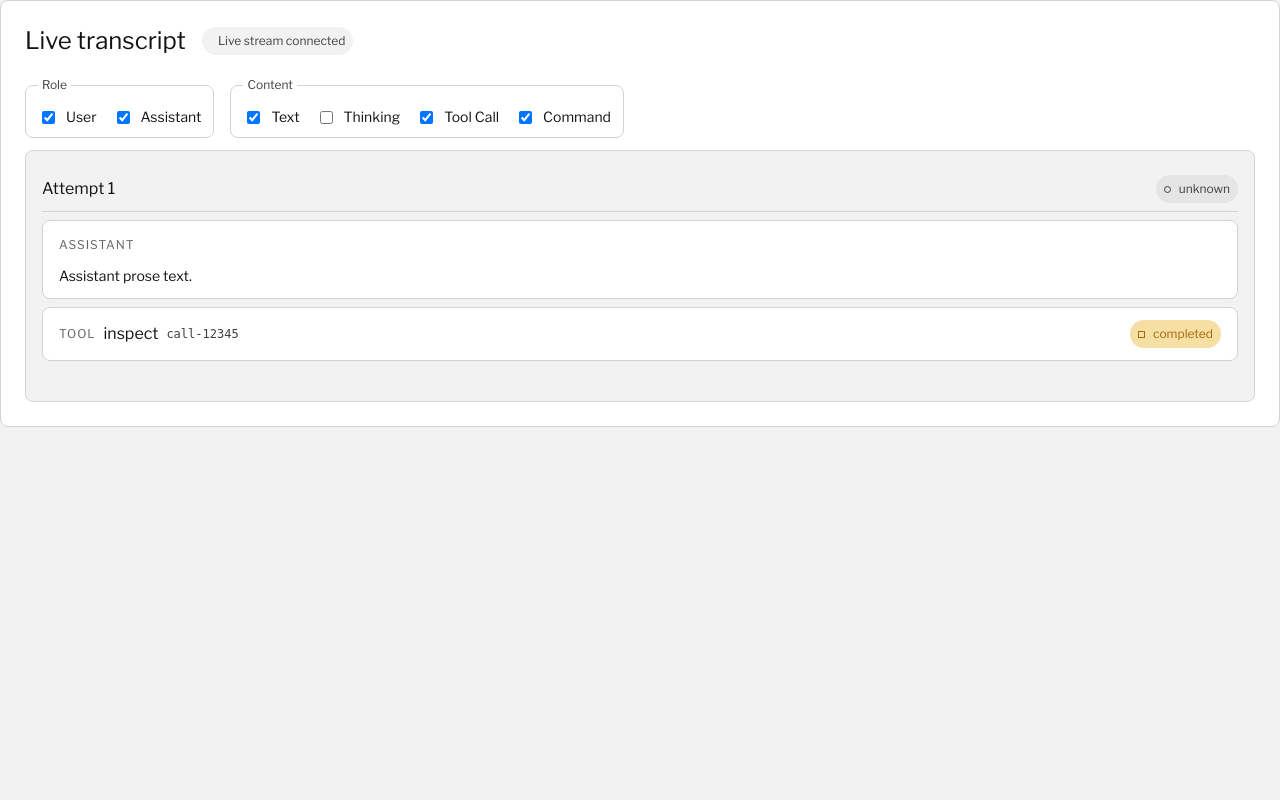
JobTranscript component › tool disclosure and payload formatting › uses normal interface typography for assistant text and monospace for IDs and raw payloads
The width and height of the screenshot is (1280, 800).
Click the heading "Tool inspect call-12345 completed" at (77, 334), box [59,320,1221,348]
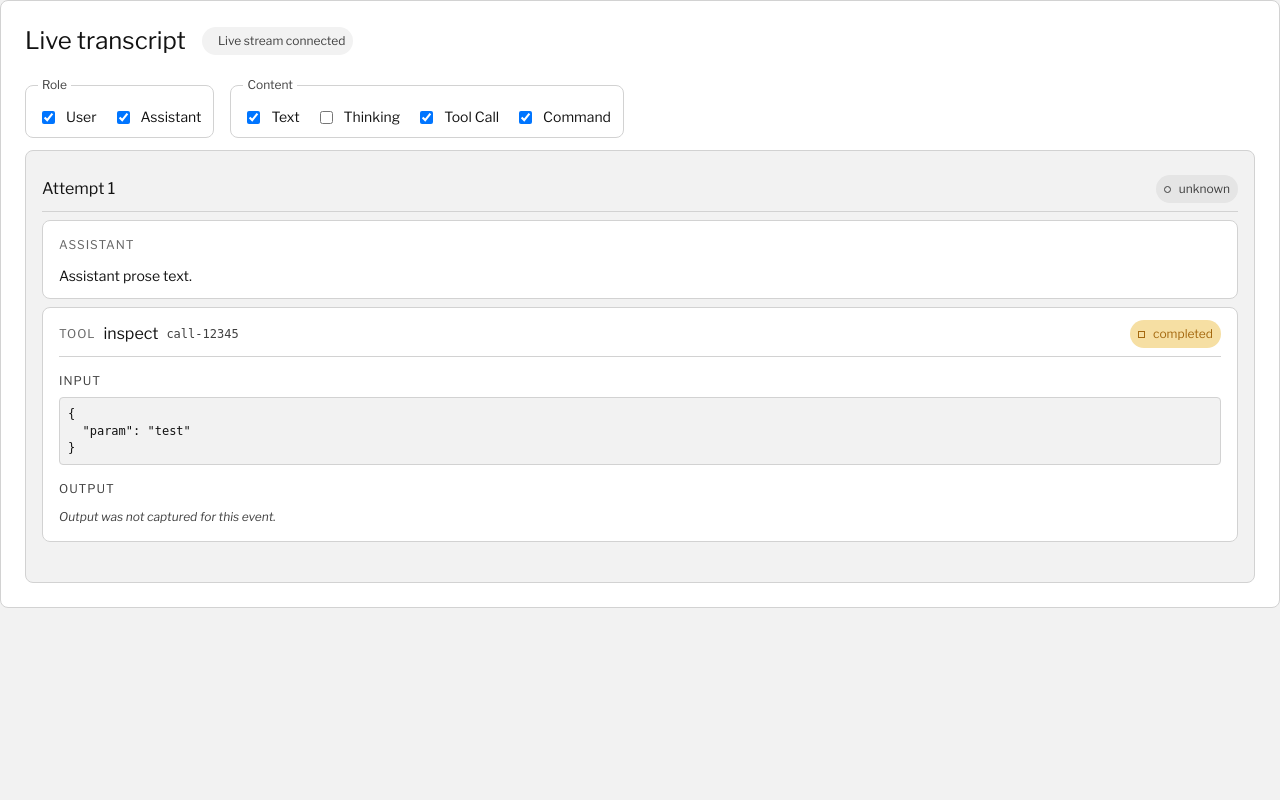
Expected: the text "Assistant prose text." is shown, [59,267,192,284]
Result: the text "{ \"param\": \"test\" }" is shown at [59,397,1221,465]
